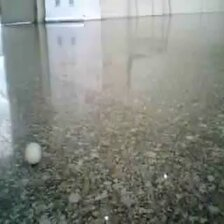w: (24, 140, 44, 166)
